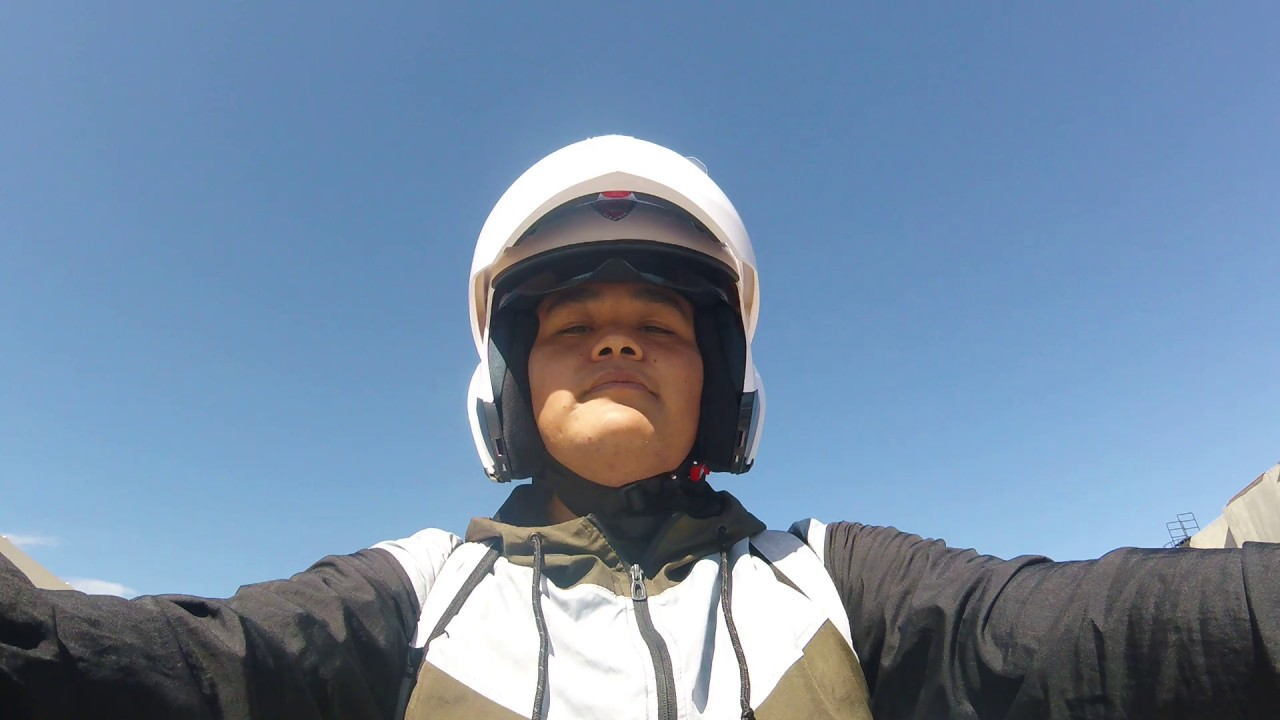With Helmet: (454, 116, 778, 518)
